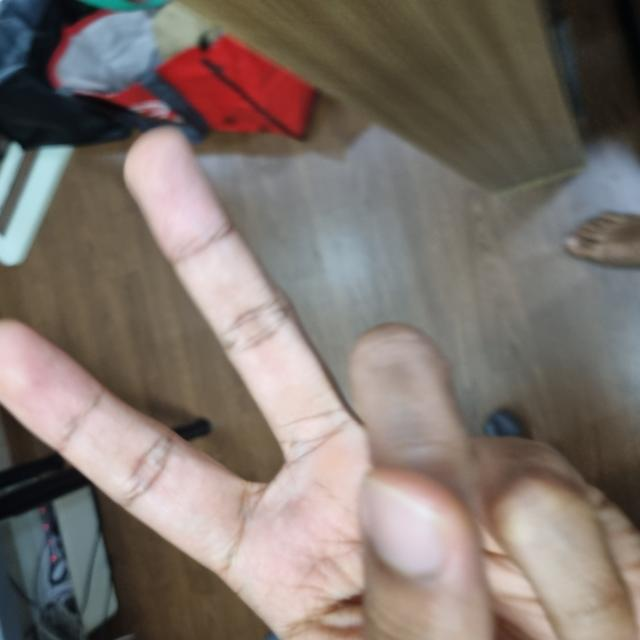Scissors: (1, 1, 506, 503)
